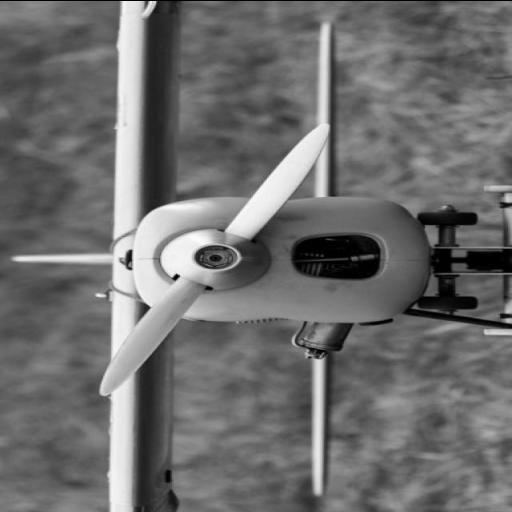uav: (2, 1, 512, 512)
